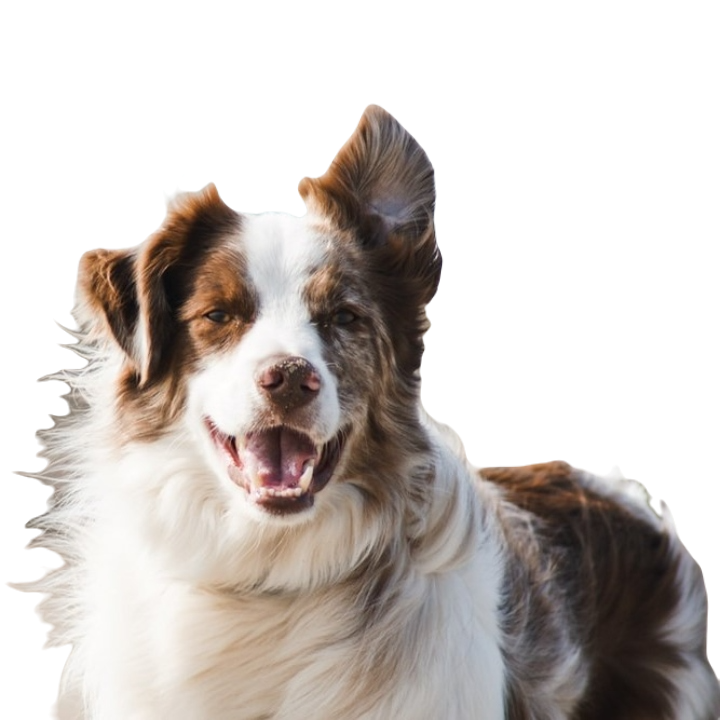Dog: (15, 100, 719, 718)
